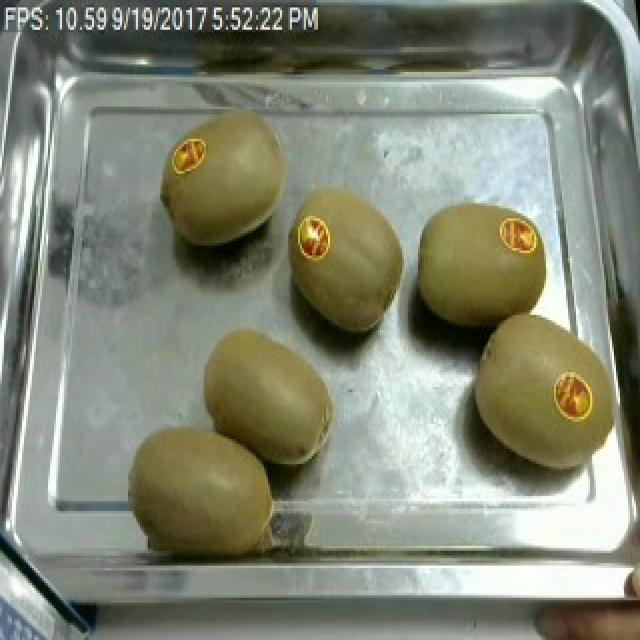Fruit: (464, 305, 630, 476), (120, 417, 284, 558), (196, 320, 342, 474), (286, 176, 412, 342), (156, 109, 298, 256), (408, 196, 554, 335)
